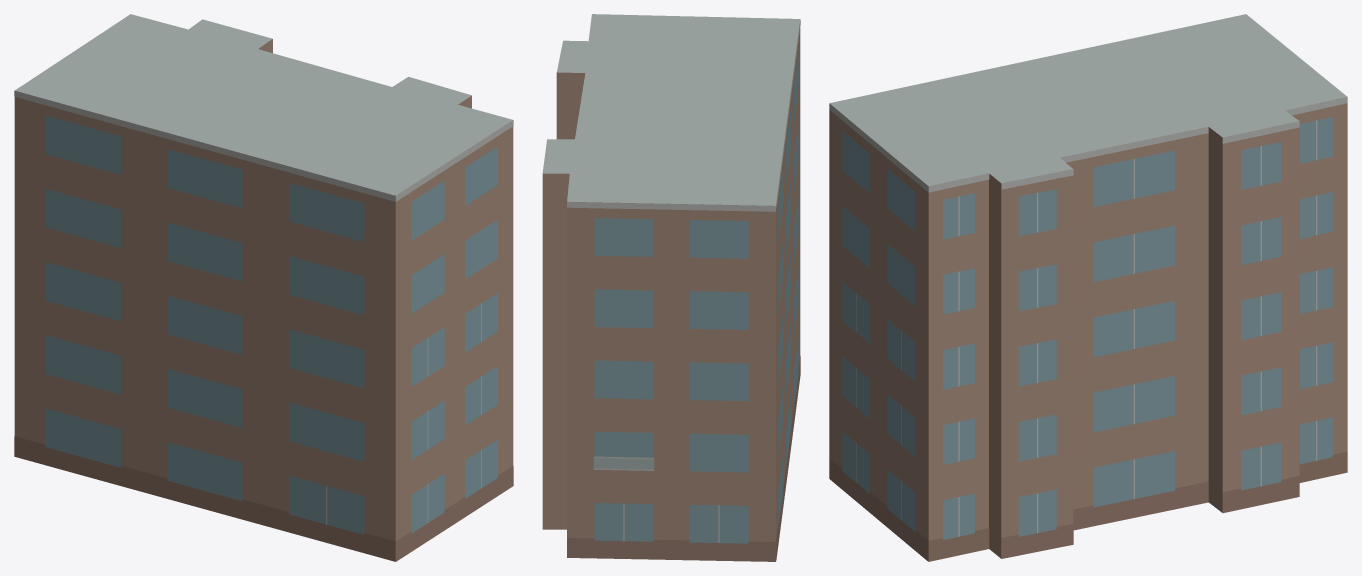
Rendered from survey-upis-32708891.glb.
3 views of the same model, side by side, from view 1: azimuth 30°, elevation 25°; view 2: azimuth 150°, elevation 25°; view 3: azimuth 270°, elevation 25° (orthographic). The views are drawn at different scales.
Visible parts, largest first — view 1: survey-upis-32708891.tmp; view 2: survey-upis-32708891.tmp; view 3: survey-upis-32708891.tmp.
Part boxes in pixels (bbox=[...]): survey-upis-32708891.tmp: bbox=[14, 14, 513, 561]; survey-upis-32708891.tmp: bbox=[542, 14, 800, 561]; survey-upis-32708891.tmp: bbox=[829, 14, 1347, 561].
Size of the model in its own units: 14.32 by 14.55 by 18.21.
